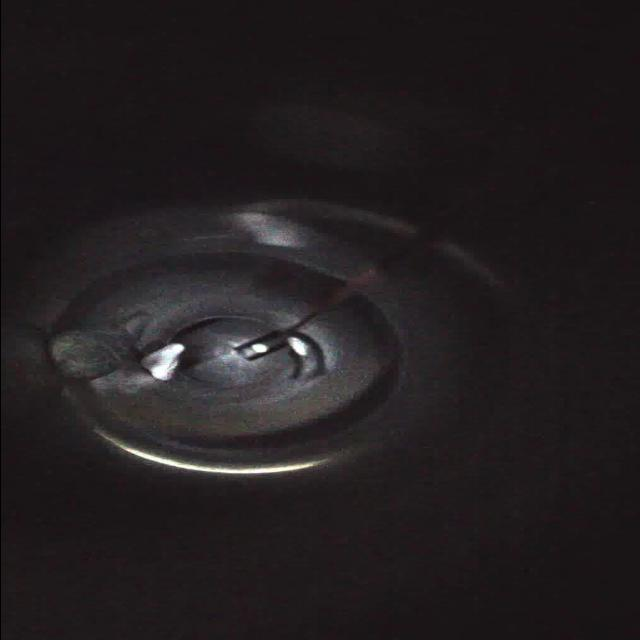impurity: (42, 328, 131, 382), (134, 340, 184, 382)
